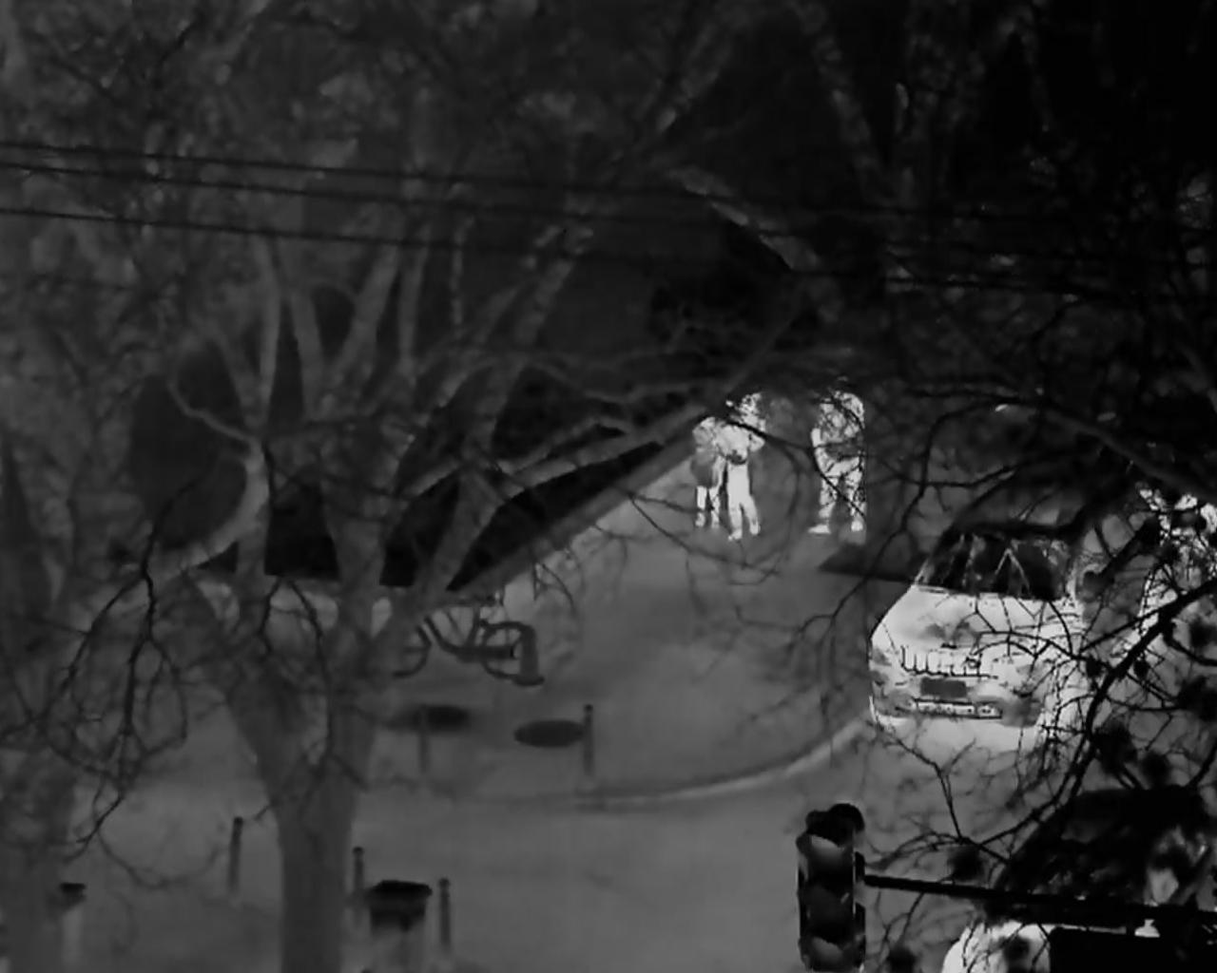person: (810, 393, 865, 535), (723, 422, 763, 542), (686, 414, 724, 533)
